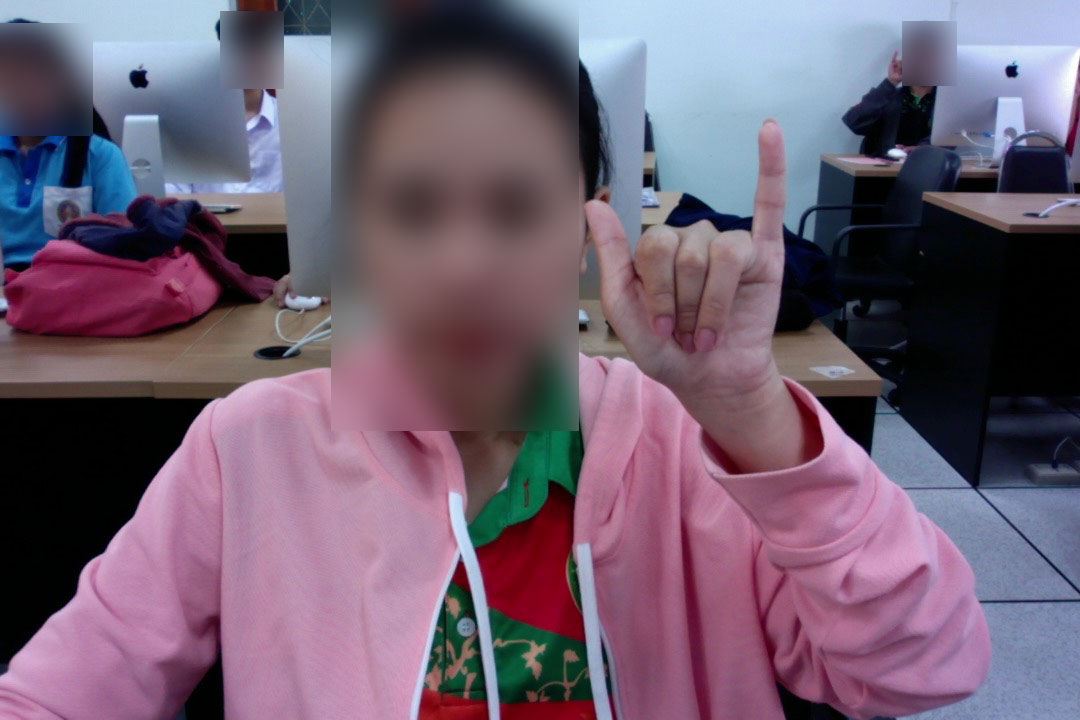yor: (577, 113, 806, 393)
